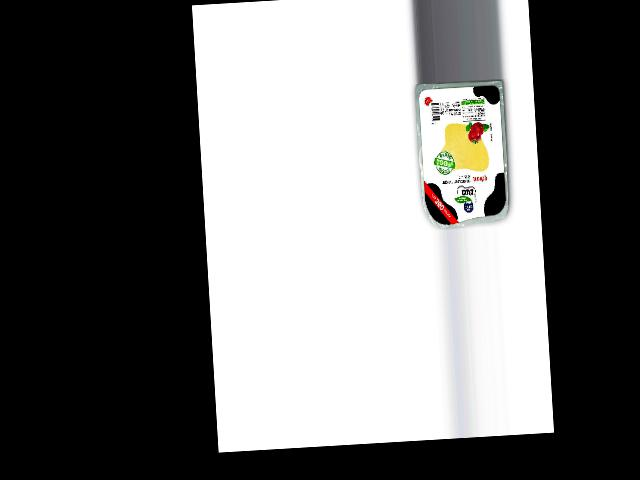cheese: (414, 79, 511, 231)
